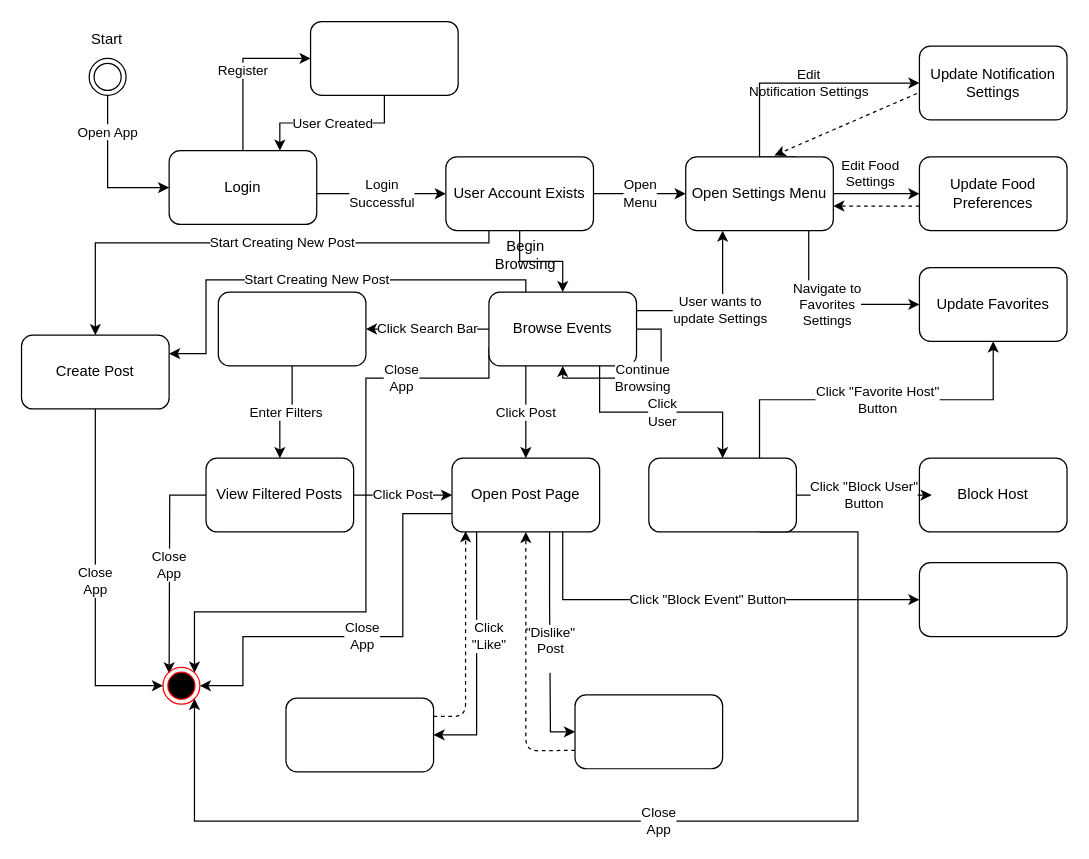
The diagram is 1089 pixels wide and 859 high, and some of its shapes have lost their labels. The centre of each missing label's shape, as x and y in pixels:
"Block Event" belongs at point 992,599.
"Dislike Post" belongs at point 648,731.
"Like Post" belongs at point 359,734.
"Open Search Functionality" belongs at point 291,328.
"Open User Profile" belongs at point 722,494.
"Register User" belongs at point 383,57.
